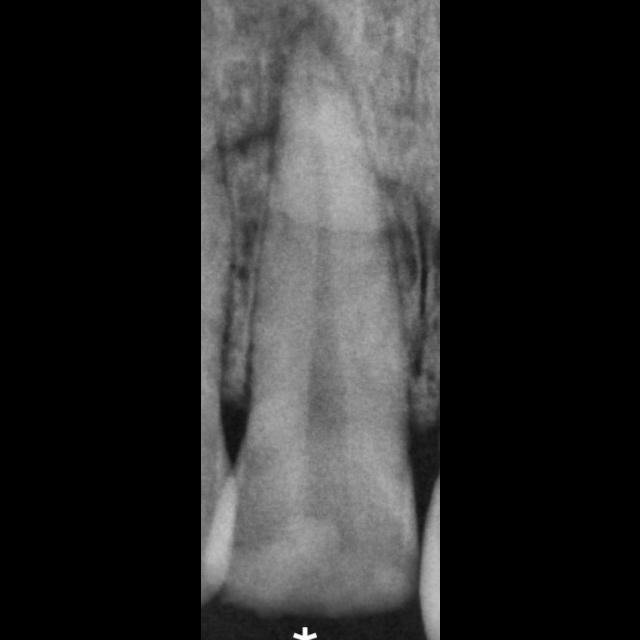tooth: (200, 24, 419, 621)
